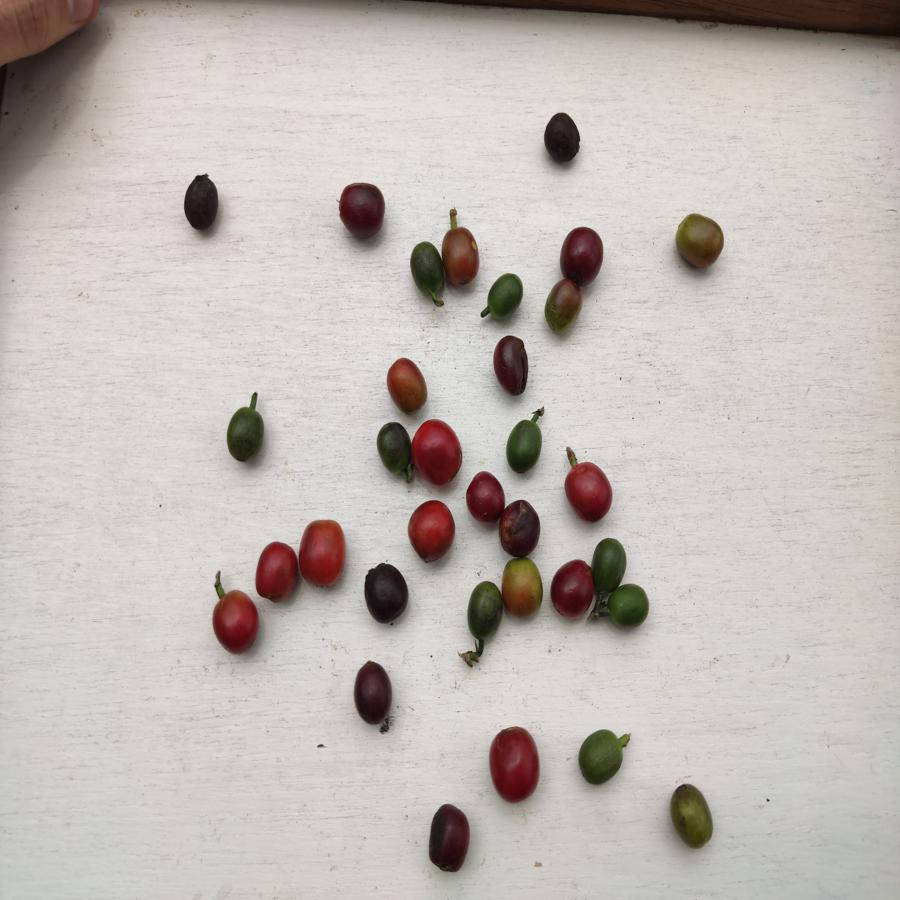Inmaduro: (578, 729, 622, 787), (224, 406, 264, 463), (407, 238, 445, 297), (606, 583, 650, 630), (466, 582, 501, 641), (506, 419, 543, 473), (593, 536, 626, 595), (377, 423, 412, 477), (487, 273, 522, 320)
Maduro: (489, 724, 541, 804), (410, 418, 462, 486), (298, 517, 345, 588), (212, 587, 261, 652), (407, 499, 455, 564), (253, 542, 298, 603)
Pinton: (674, 214, 726, 269), (502, 556, 545, 617), (441, 226, 483, 286), (386, 357, 429, 414), (544, 277, 579, 331)
Sobremaduro: (426, 801, 470, 873), (559, 226, 609, 284), (363, 562, 409, 623), (338, 182, 385, 240), (352, 660, 393, 724), (549, 560, 593, 619), (492, 332, 531, 395), (497, 503, 542, 557), (542, 111, 584, 163), (184, 173, 219, 231), (464, 471, 507, 518)
